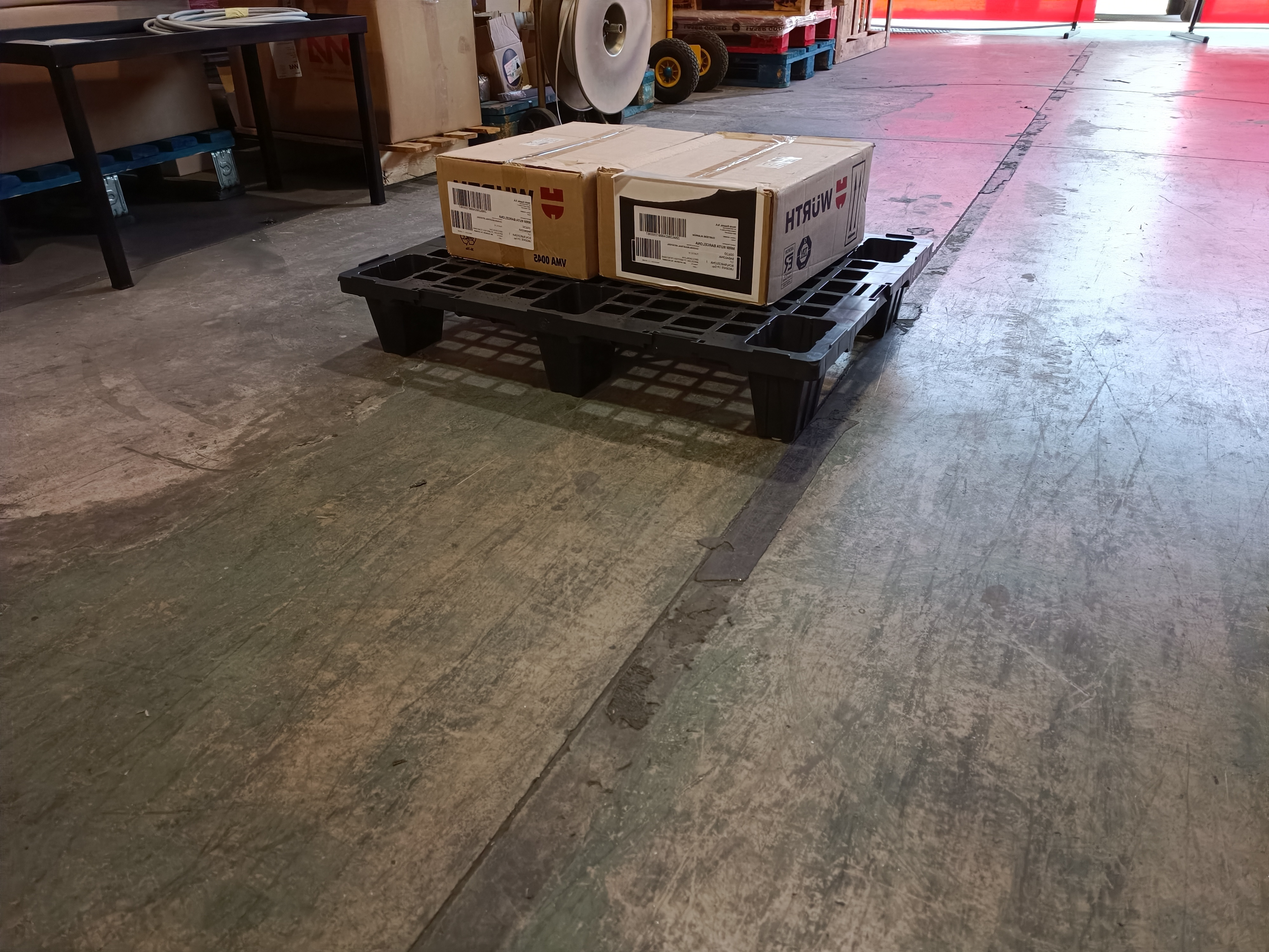block: (530, 319, 618, 390), (362, 294, 444, 356), (756, 369, 826, 433)
front: (335, 272, 834, 450)
hole pallet: (592, 341, 755, 424), (419, 306, 541, 383)
